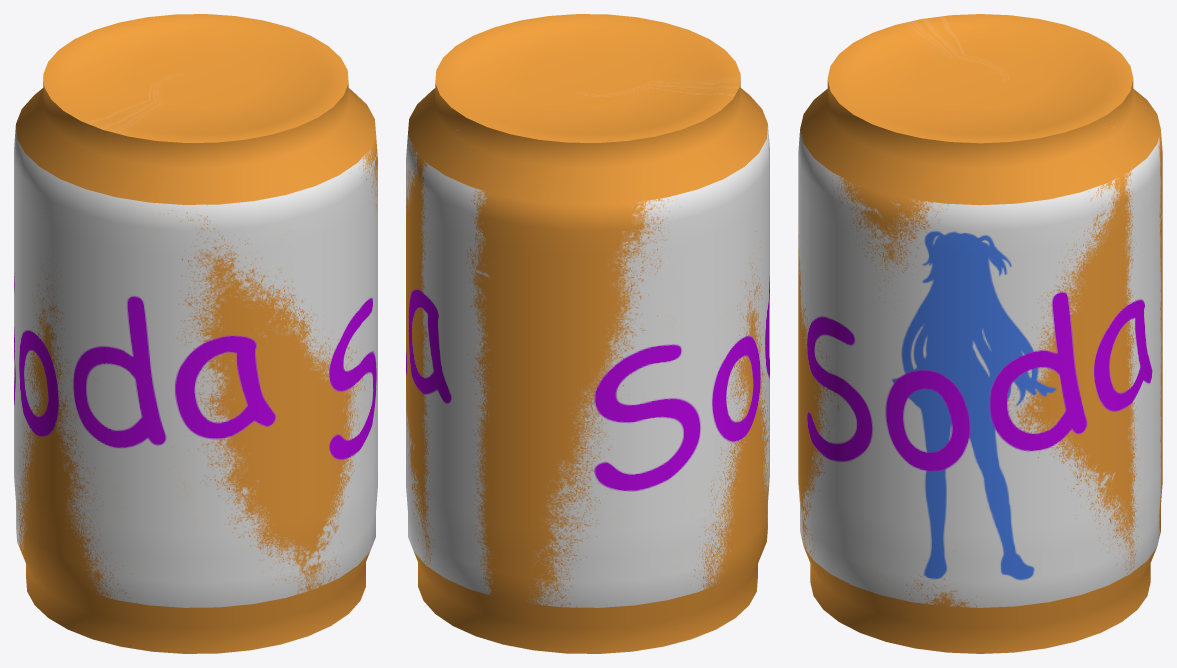
The model's file is can.fbx.
3 views of the same model, side by side, from view 1: azimuth 30°, elevation 25°; view 2: azimuth 150°, elevation 25°; view 3: azimuth 270°, elevation 25° (orthographic).
Visible parts, largest first — view 1: can; view 2: can; view 3: can.
Boxes of the visible parts, <box> form: can: <box>14,14,377,653</box>; can: <box>406,14,769,653</box>; can: <box>798,14,1162,653</box>.
Bounding box in the file's own units: 16.97 × 16.97 × 25.86.
1 material, 1 textured.
